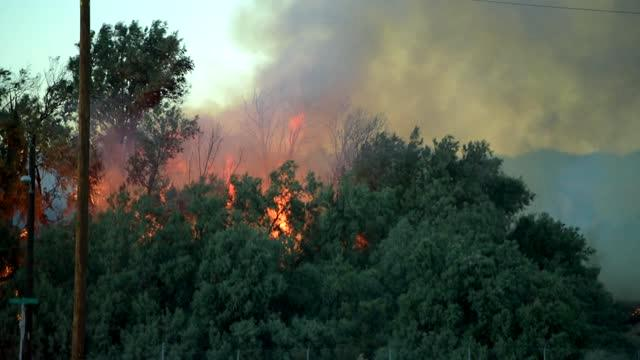fire: (1, 106, 636, 358)
